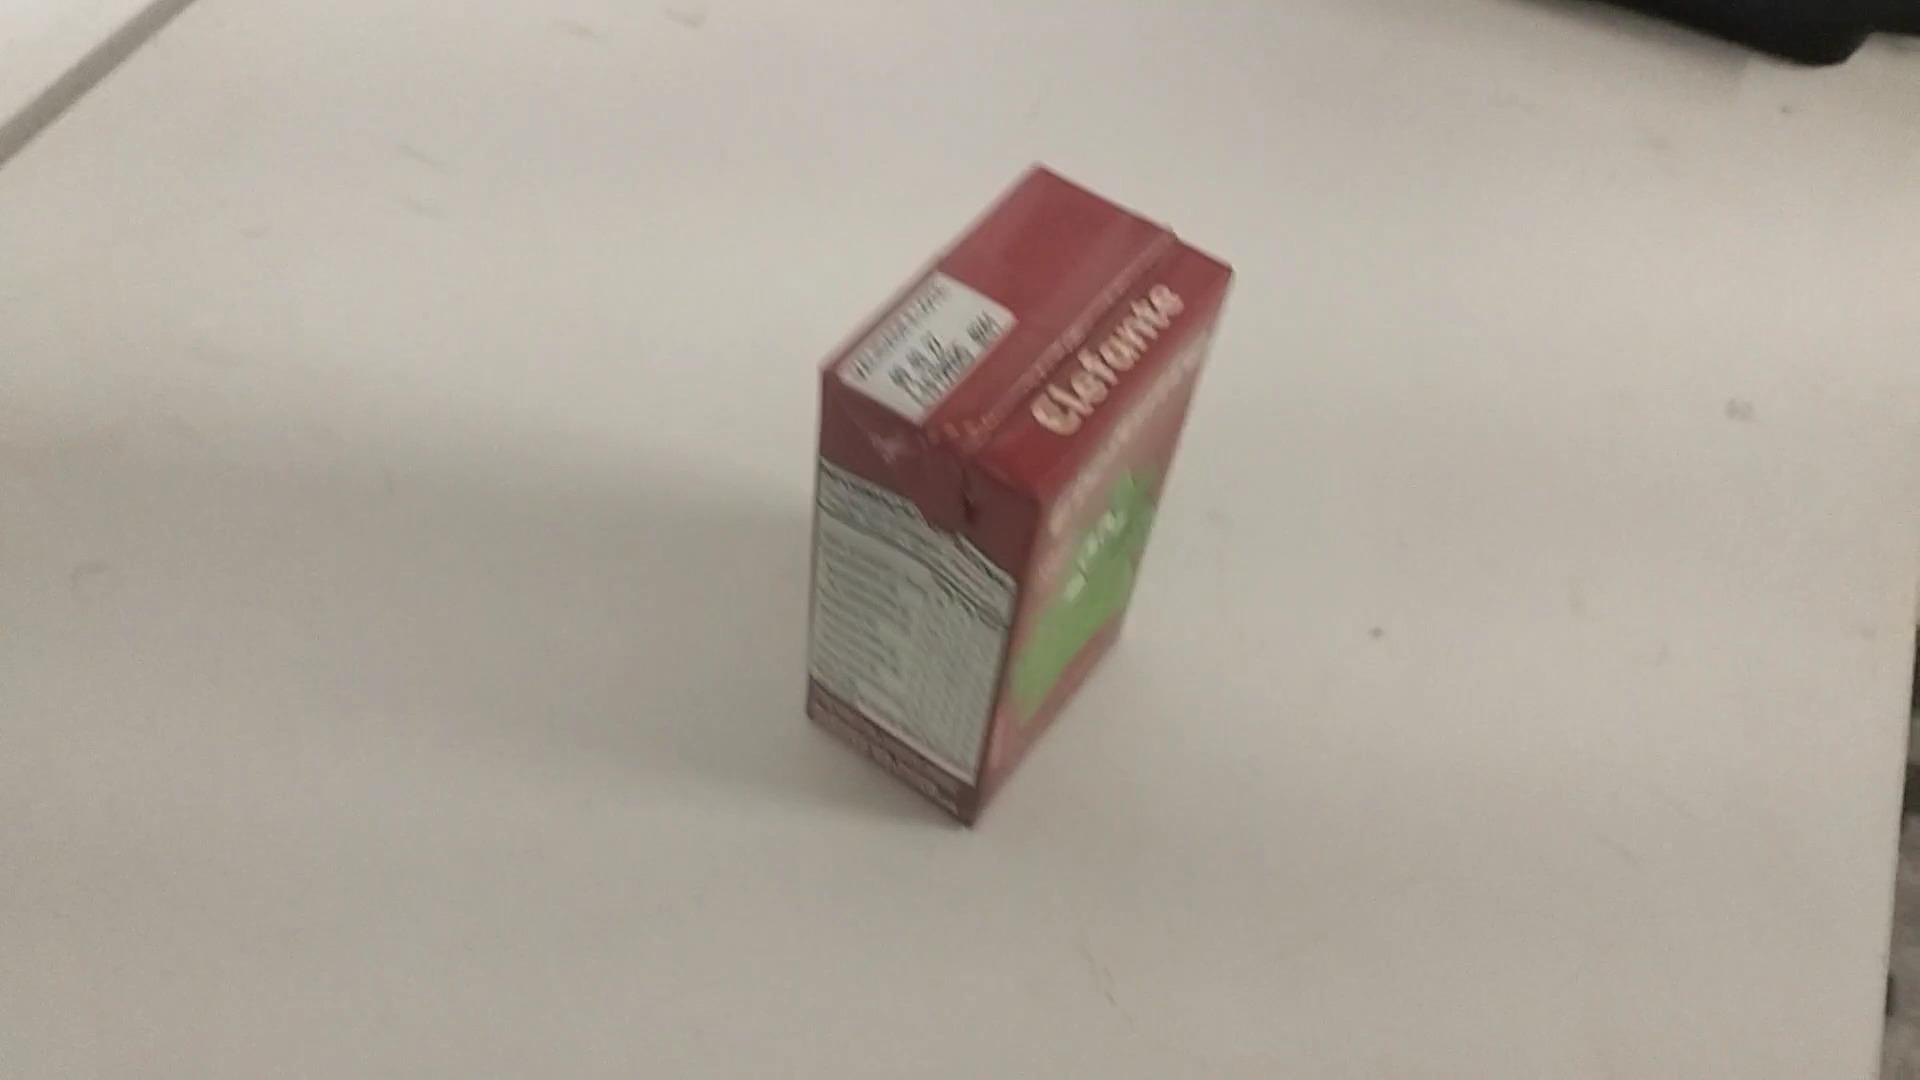tomate: (790, 145, 1250, 839)
